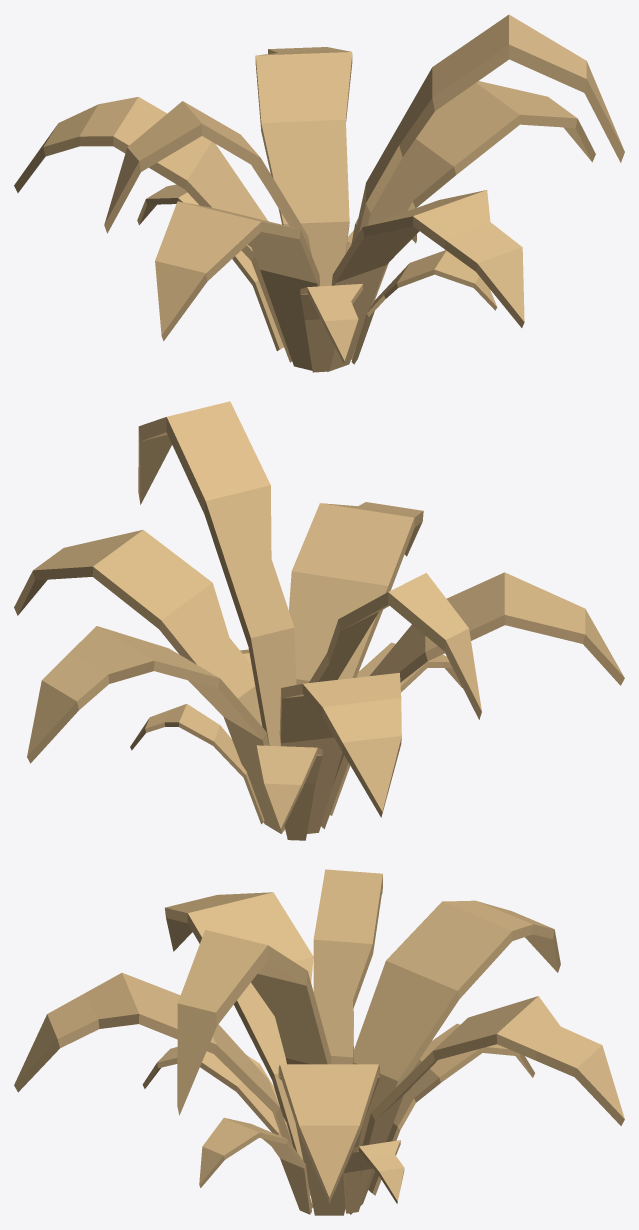
Rendered from Mega_Asset_s_Pack_Plane_215.FBX.
3 views of the same model, one above another, from view 1: azimuth 30°, elevation 25°; view 2: azimuth 150°, elevation 25°; view 3: azimuth 270°, elevation 25° (orthographic). The views are drawn at different scales.
Visible parts, largest first — view 1: Mega_Asset_s_Pack_Plane_215; view 2: Mega_Asset_s_Pack_Plane_215; view 3: Mega_Asset_s_Pack_Plane_215.
Boxes of the visible parts, x1,y1,x2,y2 form: Mega_Asset_s_Pack_Plane_215: (14, 14, 624, 372); Mega_Asset_s_Pack_Plane_215: (14, 401, 624, 840); Mega_Asset_s_Pack_Plane_215: (14, 869, 624, 1215).
Size of what is drawn, in the model's own units: 228 by 231 by 142.
